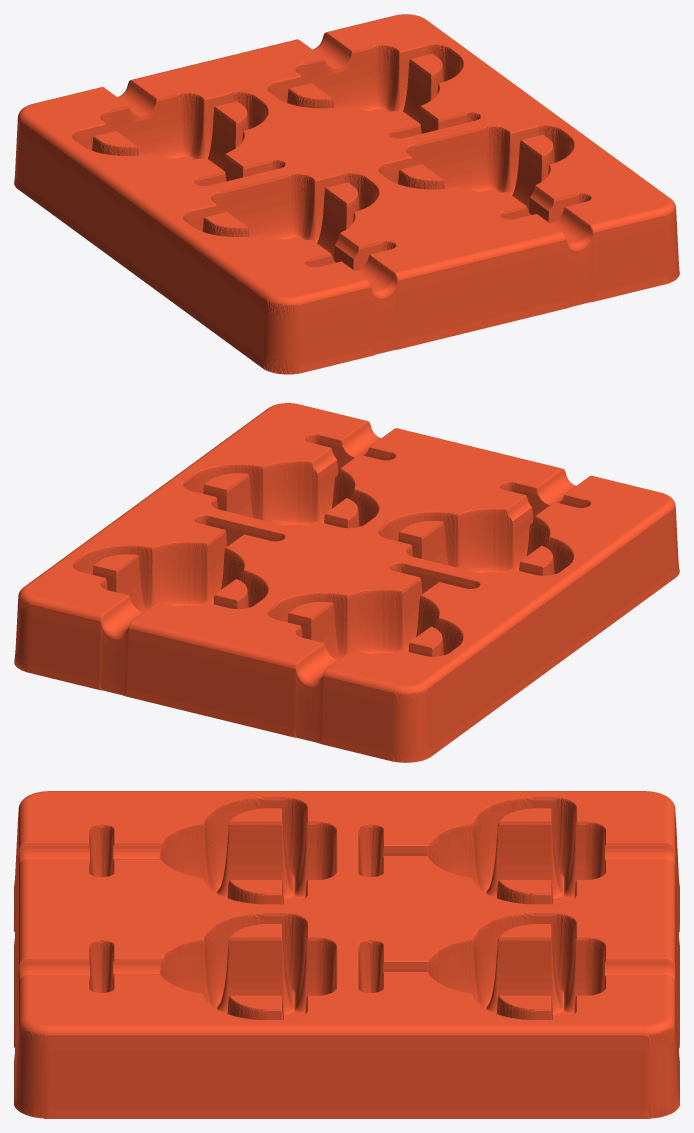
Rendered from mold.glb.
3 views of the same model, one above another, from view 1: azimuth 30°, elevation 25°; view 2: azimuth 150°, elevation 25°; view 3: azimuth 270°, elevation 25° (orthographic). The views are drawn at different scales.
Visible parts, largest first — view 1: geometry_0; view 2: geometry_0; view 3: geometry_0.
Boxes of the visible parts, bbox=[...] form: geometry_0: bbox=[14, 14, 679, 374]; geometry_0: bbox=[14, 403, 679, 762]; geometry_0: bbox=[14, 791, 679, 1118].
Size of the model in its own units: 0.1468 by 0.0245 by 0.1685.
